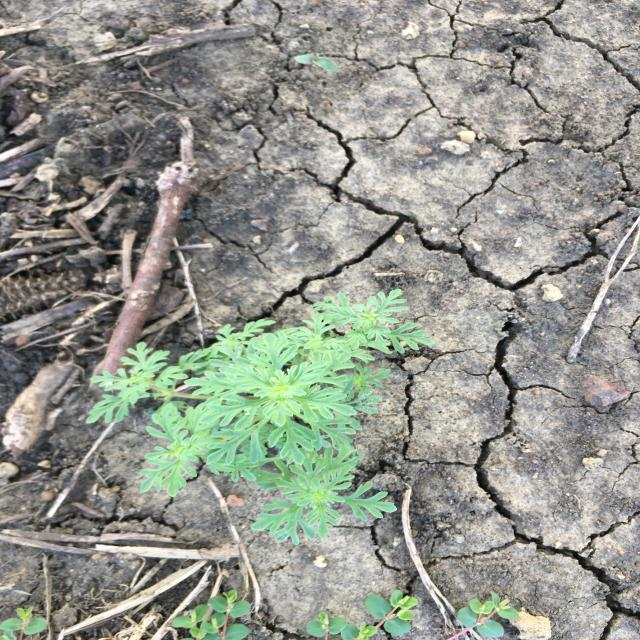Ragweed: (84, 288, 438, 548)
SpottedSpurge: (1, 590, 522, 639)
